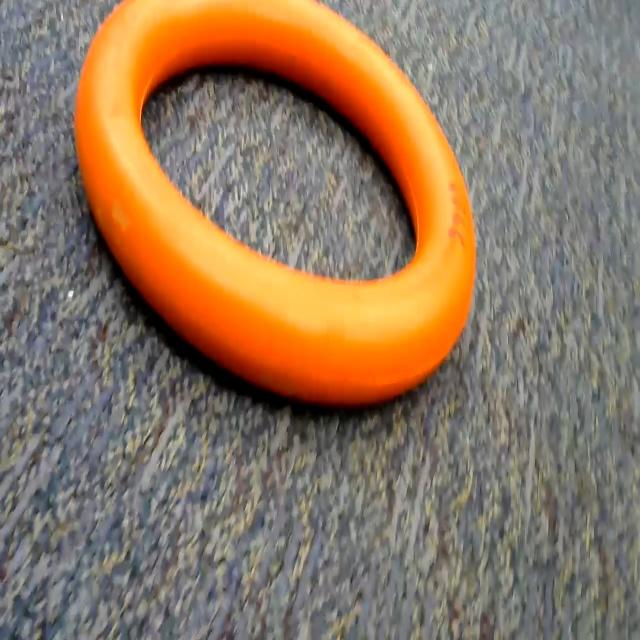note: (61, 0, 492, 424)
